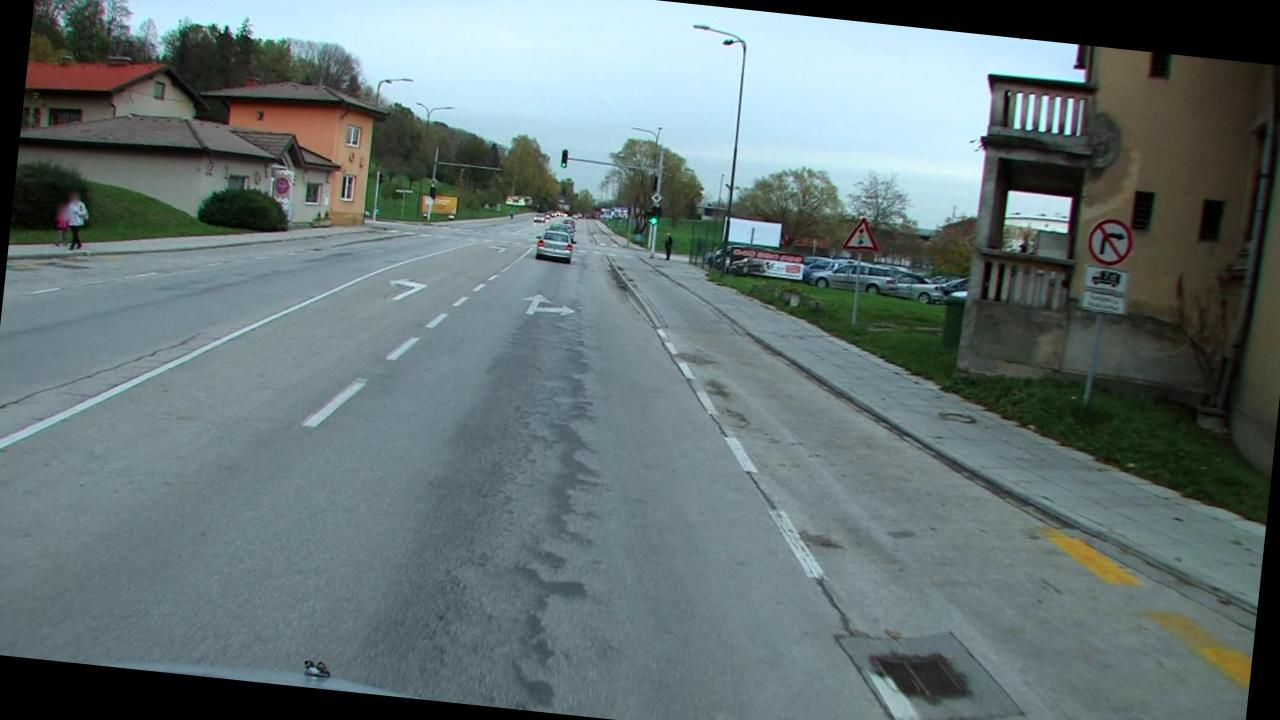Round: (1086, 214, 1136, 266)
Squared: (1082, 264, 1128, 294), (1078, 288, 1130, 314)
Triangle: (842, 216, 879, 255)
